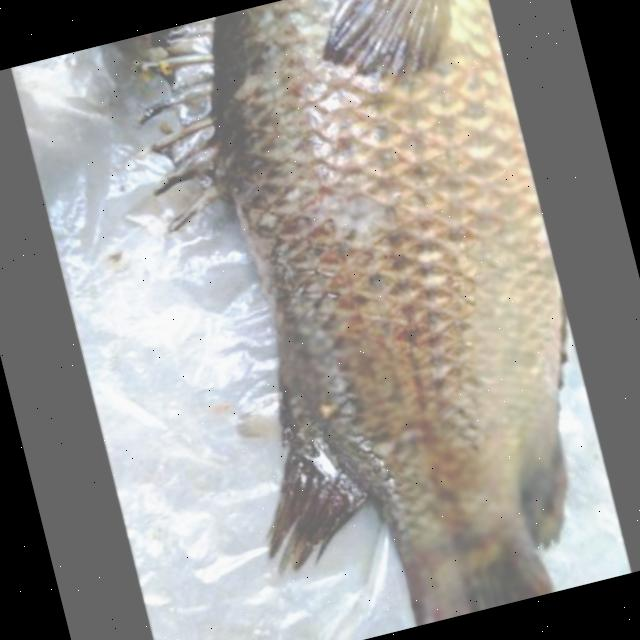Columnaris Disease: (139, 0, 566, 624)
